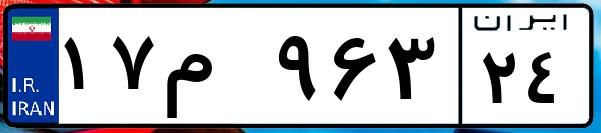1: (57, 26, 110, 100)
2: (475, 38, 525, 113)
3: (385, 28, 445, 110)
4: (525, 38, 570, 115)
6: (330, 28, 385, 110)
7: (110, 28, 158, 98)
9: (270, 28, 330, 110)
م: (158, 20, 270, 120)
